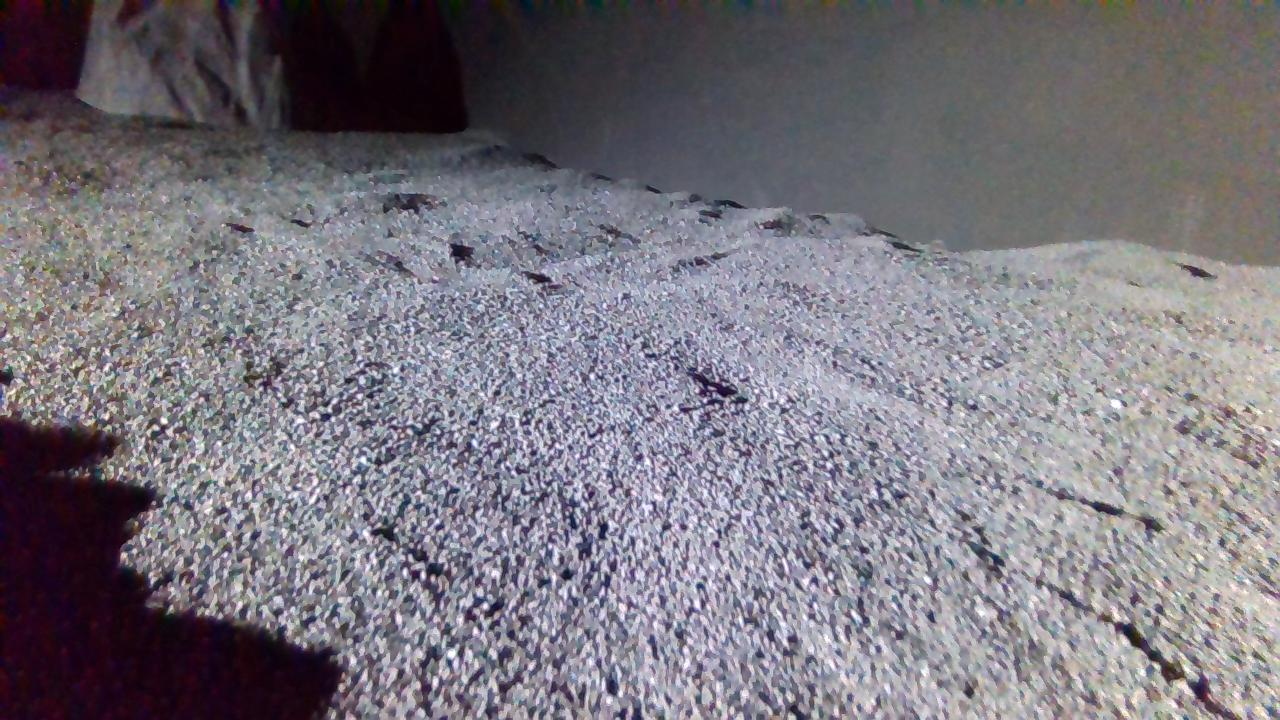rock: (75, 1, 281, 126)
